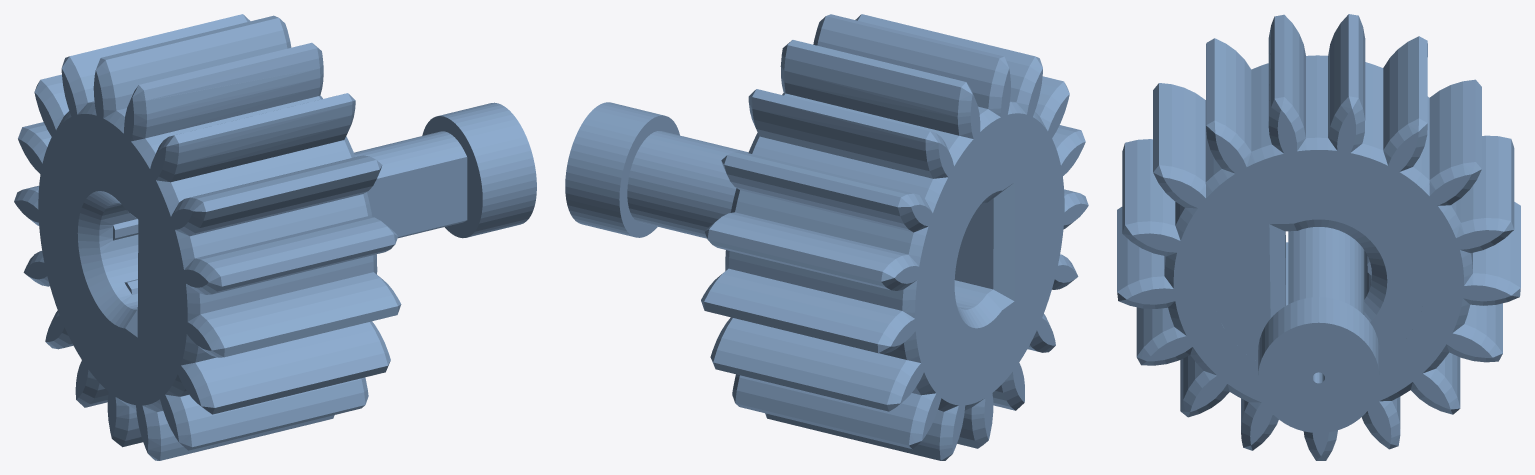
Rendered from feeder_spool_drive.glb.
The picture shows the model from 3 angles, left to right: view 1: azimuth 30°, elevation 25°; view 2: azimuth 150°, elevation 25°; view 3: azimuth 270°, elevation 25°; orthographic projection. The views are drawn at different scales.
Visible parts, largest first — view 1: pt_8#2, pt_60#0; view 2: pt_8#2, pt_60#0; view 3: pt_8#2, pt_60#0.
Boxes of the visible parts, x1,y1,x2,y2 form: pt_8#2: [14, 14, 401, 460]; pt_60#0: [354, 102, 536, 238]; pt_8#2: [701, 14, 1088, 460]; pt_60#0: [565, 102, 748, 238]; pt_8#2: [1117, 14, 1520, 460]; pt_60#0: [1258, 227, 1379, 432].
Bounding box in the file's own units: 0.0145 × 0.0132 × 0.0133.
